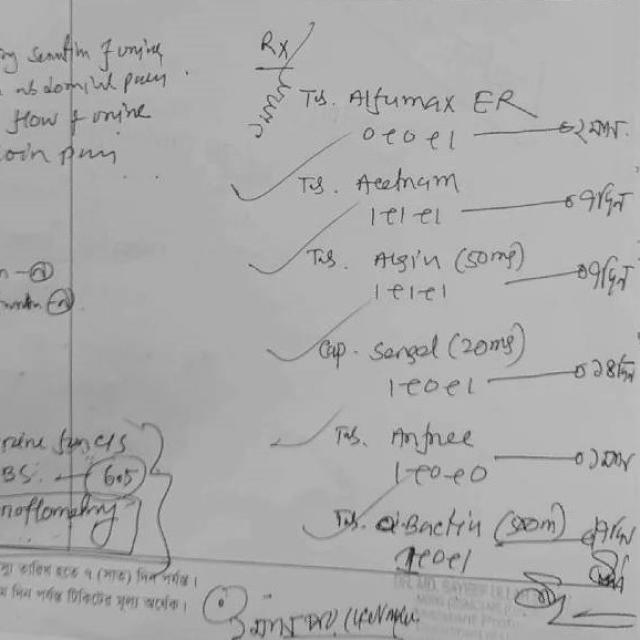medicine: (343, 70, 523, 122), (346, 163, 472, 201), (381, 415, 482, 453), (402, 505, 488, 543), (360, 330, 446, 367), (365, 242, 450, 278)
